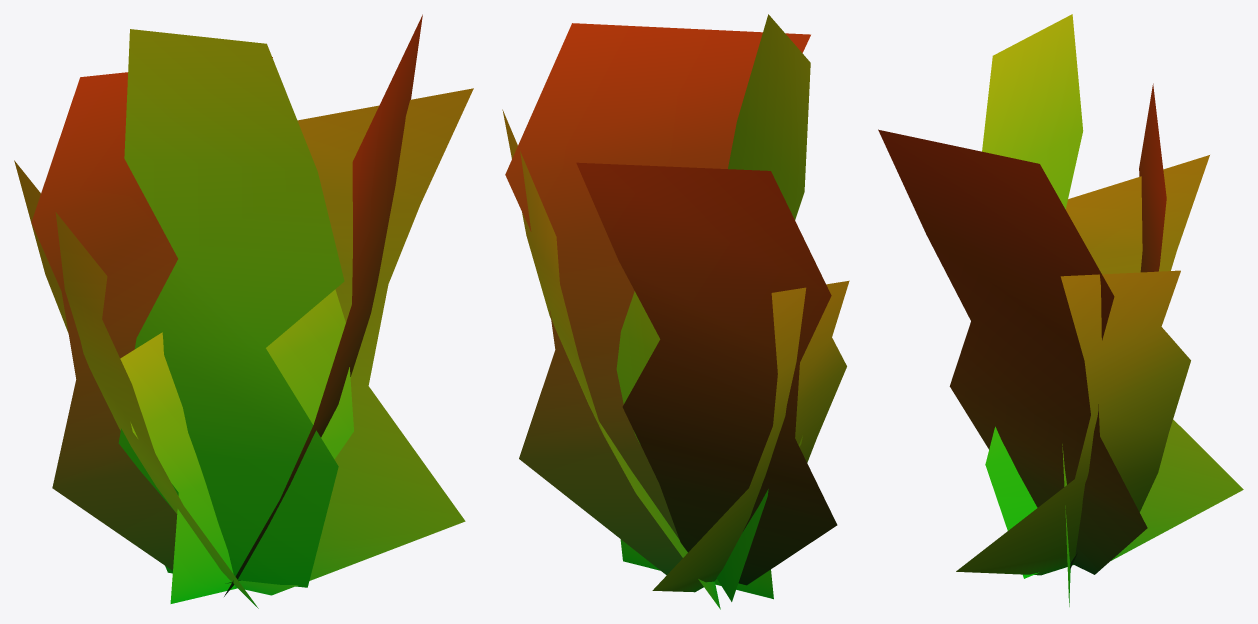
Rendered from Var8Hi47.fbx.
The picture shows the model from 3 angles, left to right: view 1: azimuth 30°, elevation 25°; view 2: azimuth 150°, elevation 25°; view 3: azimuth 270°, elevation 25°; orthographic projection. The views are drawn at different scales.
Visible parts, largest first — view 1: bend1; view 2: bend1; view 3: bend1.
Part boxes in pixels (x1,y1,x2,y2): bend1: (14,14,473,608); bend1: (502,14,849,609); bend1: (878,14,1243,606).
Bounding box in the file's own units: 1.26 × 1.77 × 1.15.
